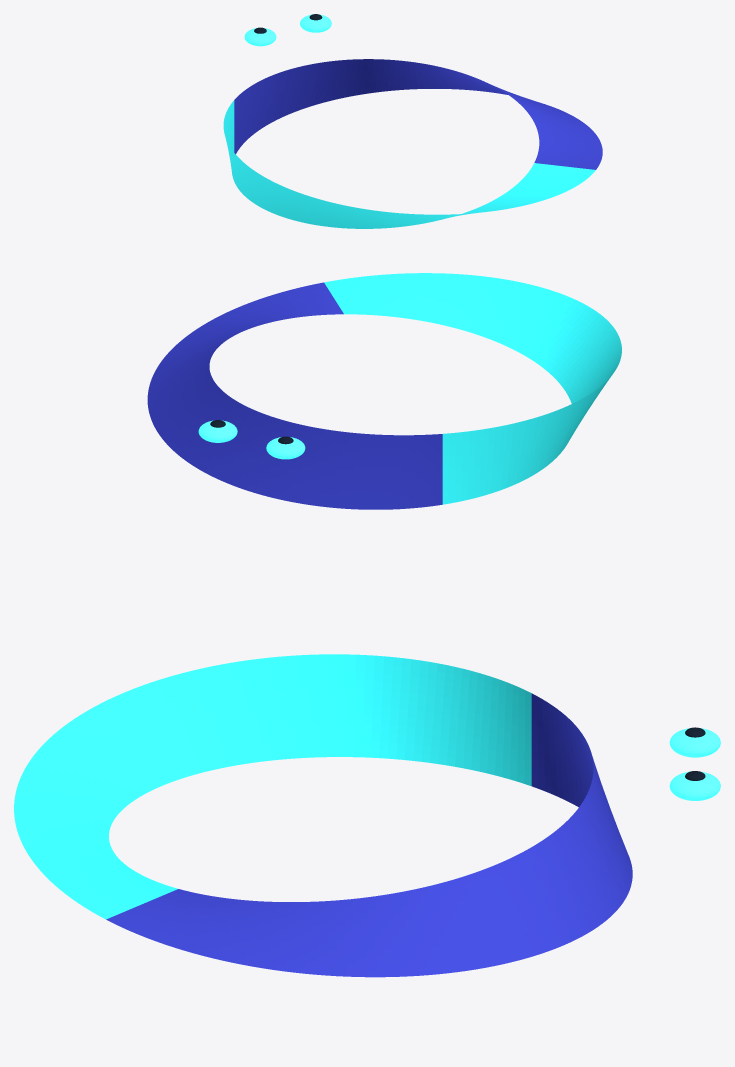
The model's file is mobius-identity-master.glb.
The picture shows the model from 3 angles, top to bottom: view 1: azimuth 30°, elevation 25°; view 2: azimuth 150°, elevation 25°; view 3: azimuth 270°, elevation 25°; orthographic projection. The views are drawn at different scales.
Parts seen in each view (by area): view 1: MobiusBody, Eye_Left, Eye_Right; view 2: MobiusBody, Eye_Right, Eye_Left; view 3: MobiusBody, Eye_Left, Eye_Right.
Part boxes in pixels (bbox=[...]): MobiusBody: bbox=[223, 59, 602, 228]; Eye_Left: bbox=[244, 28, 276, 46]; Eye_Right: bbox=[300, 14, 331, 32]; MobiusBody: bbox=[147, 273, 621, 509]; Eye_Right: bbox=[198, 420, 237, 442]; Eye_Left: bbox=[266, 437, 305, 459]; MobiusBody: bbox=[14, 654, 632, 977]; Eye_Left: bbox=[669, 728, 720, 757]; Eye_Right: bbox=[669, 771, 720, 800].
Size of the model in its own units: 7.31 by 0.856 by 4.68.
